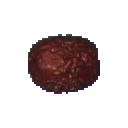gd: (18, 21, 110, 111)
